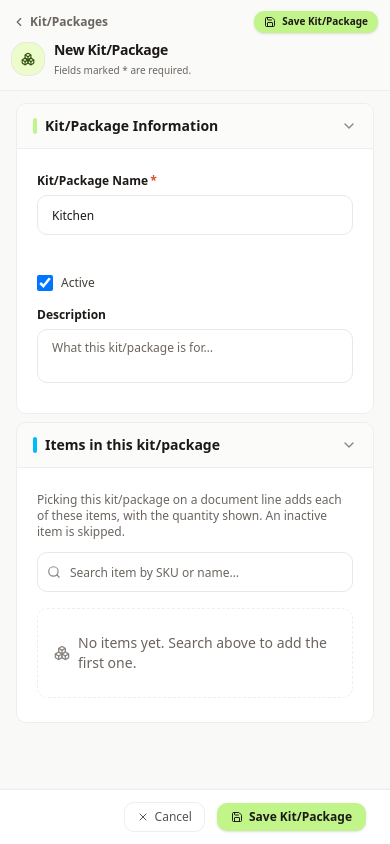
AddKitPage › shows the server’s message for a duplicate name and stays on the page
The image size is (390, 844).
Click the 1st button "Save Kit/Package" at (316, 22), box x1=254 y1=11 x2=378 y2=33
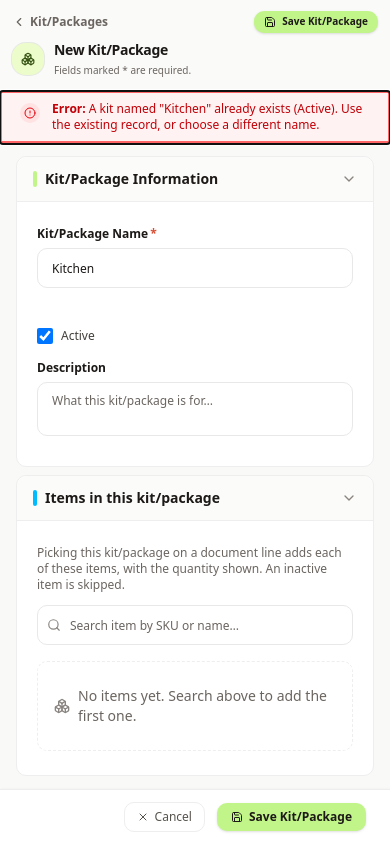
Check: the field named "Kit/Package Name" holds "Kitchen", box x1=37 y1=248 x2=353 y2=288
Check: the message shows "already exists", box x1=52 y1=100 x2=362 y2=133
